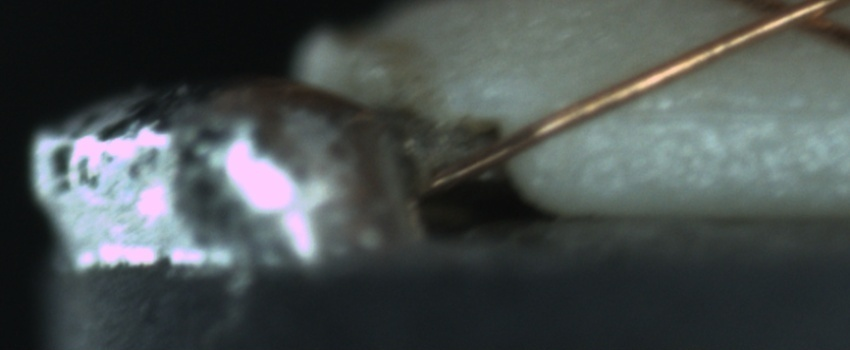CL: (734, 1, 844, 42)
DL: (609, 75, 843, 146)
